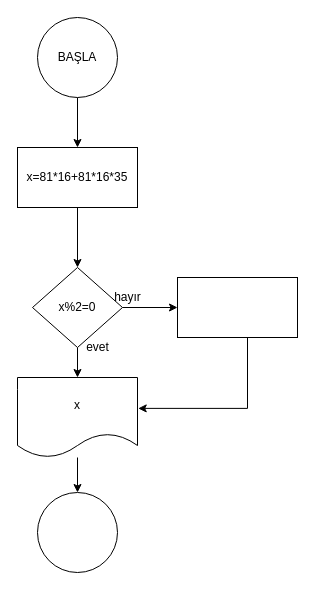
Some shapes in this 315 by 590 pixel diagram are drawn without their labels. Each missing label, with the centre of its shape:
"DUR" belongs at (x=77, y=532).
"x/3" belongs at (x=237, y=307).
